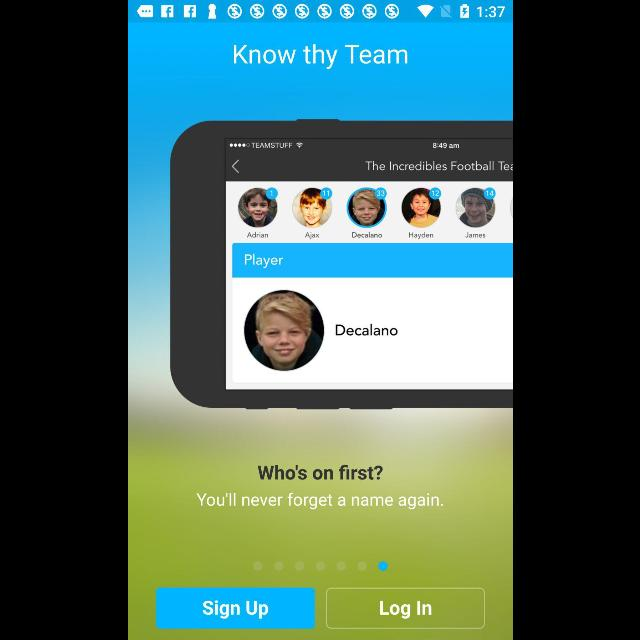image: (170, 118, 512, 410)
pageindicator: (252, 560, 388, 572)
text: (233, 44, 407, 70), (195, 492, 442, 510), (256, 465, 382, 481)
textbutton: (326, 587, 484, 629), (156, 588, 314, 628)
uppertaskbar: (128, 1, 512, 23)
